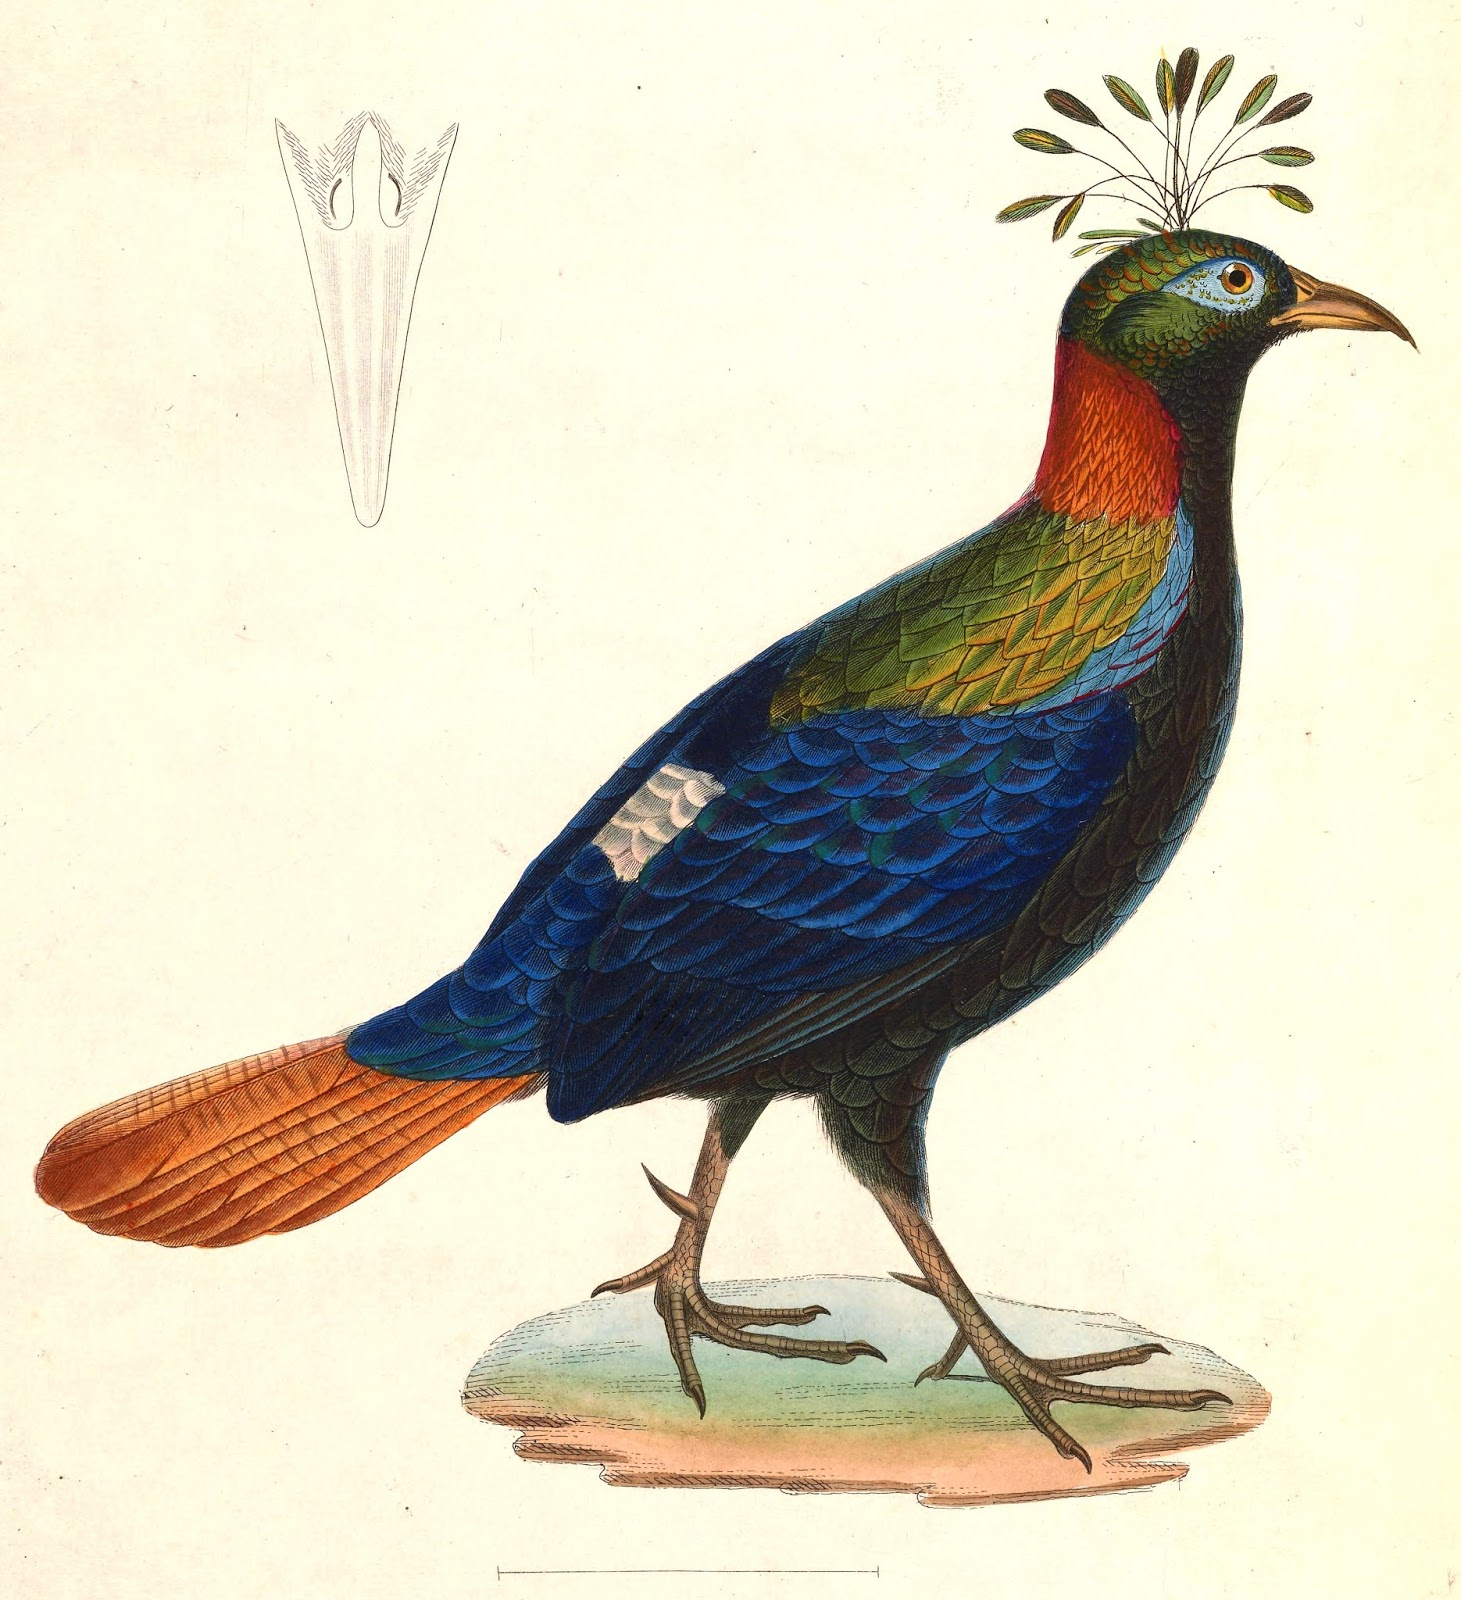bird: (25, 46, 1450, 1507)
